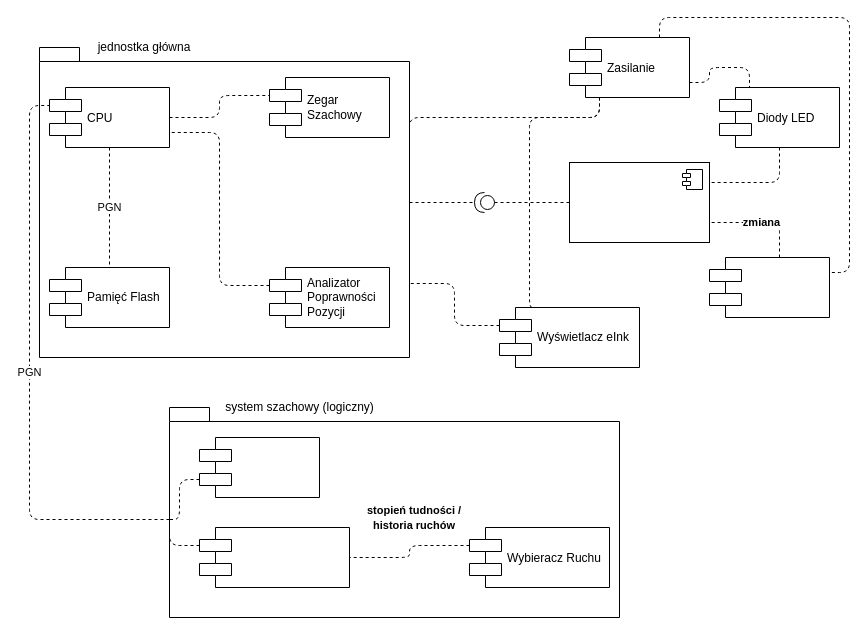
Image size: 868x635. Some labels were removed from this diagram. Here are the shapes that lost their labels. From the top down, the centre of each, then its label:
At pixel 639 202: "«Interface» Plansza Szachownicy".
At pixel 769 287: "Czujniki Ciężaru".
At pixel 259 467: "Walidator Ruchu".
At pixel 274 557: "Ewaluator Ruchów (Silnik Szachowy)".
